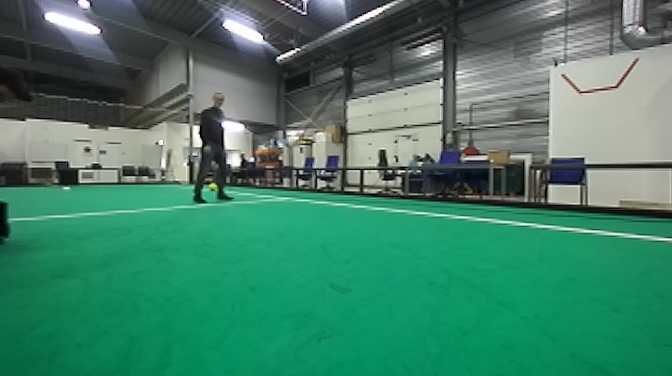ball: (206, 181, 218, 193)
human: (194, 88, 232, 211)
